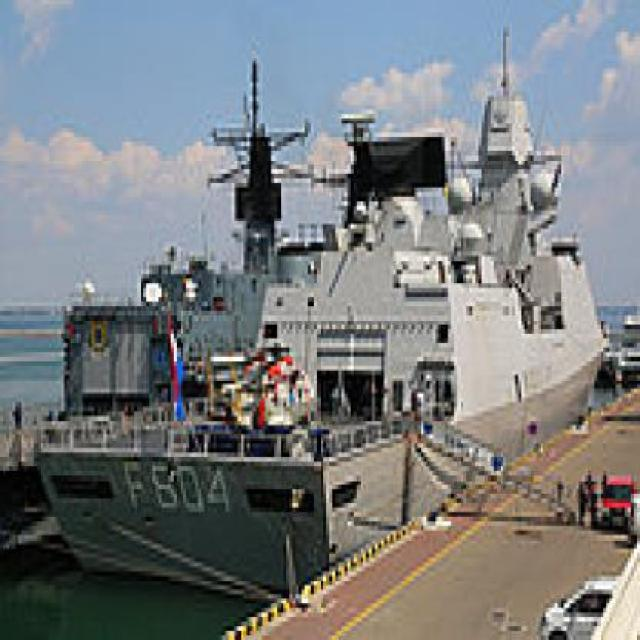warship2: (31, 32, 617, 605)
